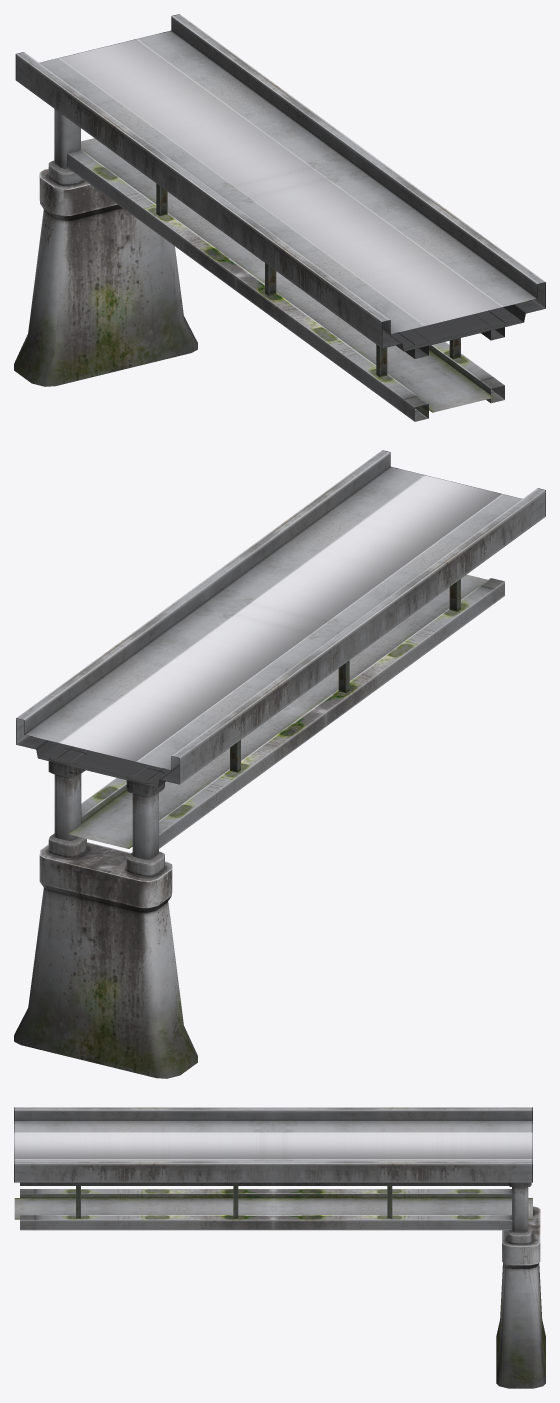
The model's file is Bridge_L3.FBX.
3 views of the same model, one above another, from view 1: azimuth 30°, elevation 25°; view 2: azimuth 150°, elevation 25°; view 3: azimuth 270°, elevation 25° (orthographic). The views are drawn at different scales.
Visible parts, largest first — view 1: Bridge_L2; view 2: Bridge_L2; view 3: Bridge_L2.
Part boxes in pixels (bbox=[...]): Bridge_L2: bbox=[14, 14, 545, 421]; Bridge_L2: bbox=[14, 450, 545, 1078]; Bridge_L2: bbox=[14, 1107, 545, 1388].
Size of the model in its own units: 767 by 1397 by 3003.
